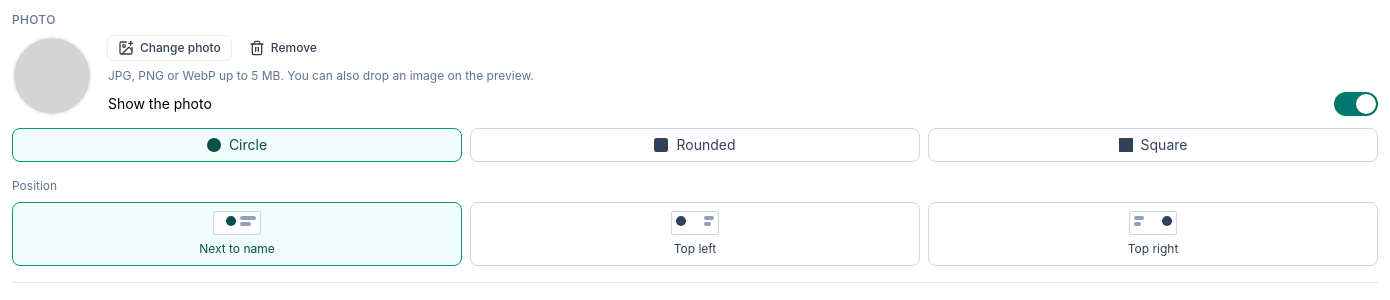
Test: PhotoPicker failures › removing a photo that is already gone is harmless
Click the button "Remove".
click(283, 48)  # box [239, 36, 327, 60]
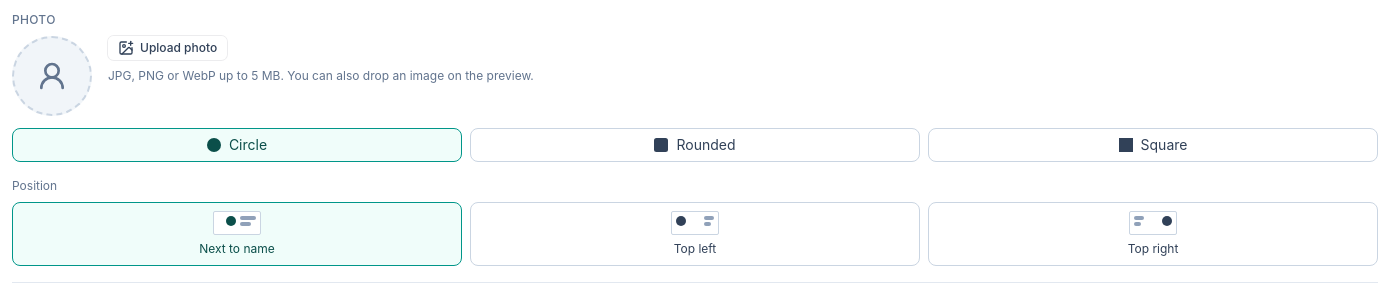
Result: the button "Remove" is gone
